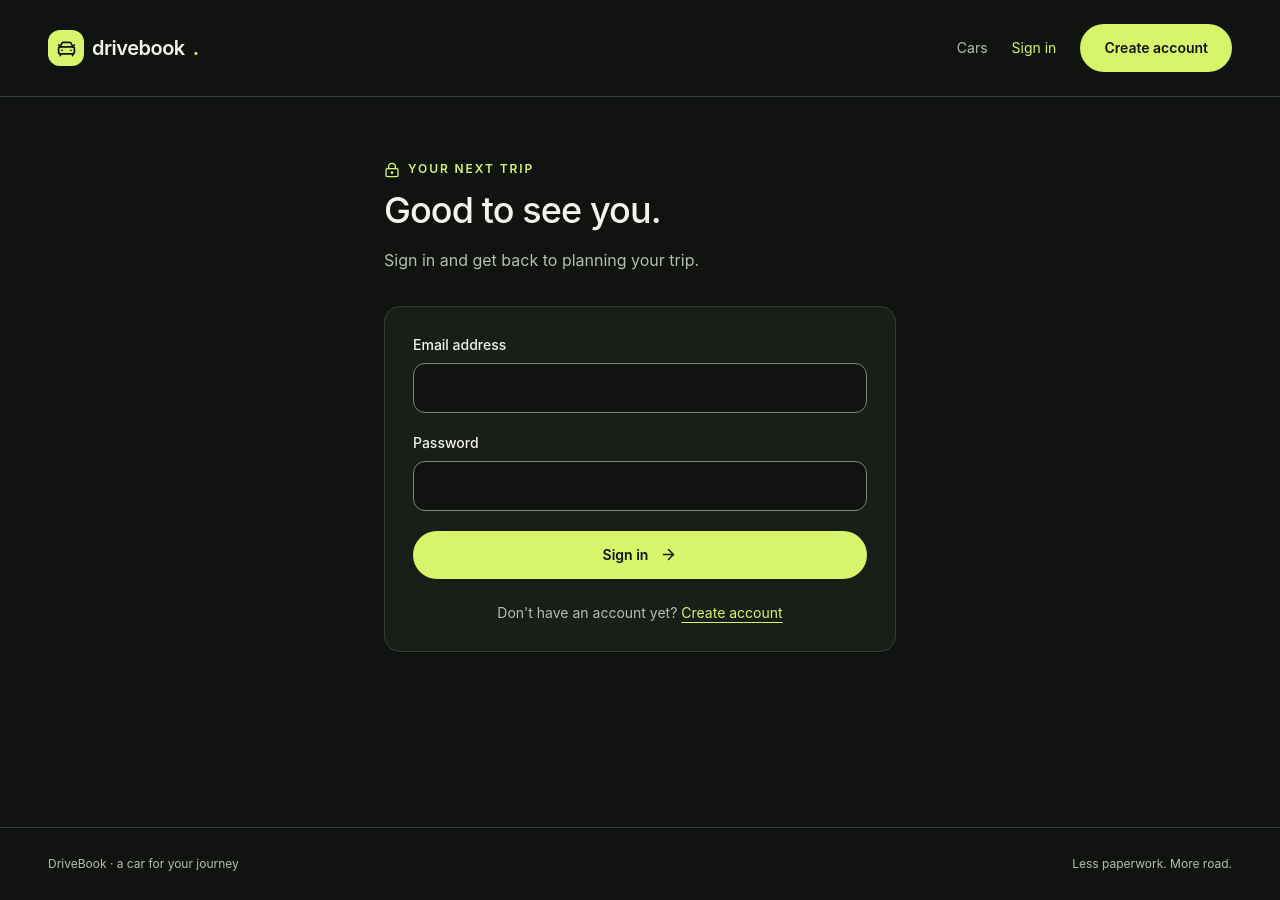
Test case: login › goes to the requested page after signing in
The width and height of the screenshot is (1280, 900).
Type "demo@drivebook.test" into the field labelled "Email address" at (640, 388), box x1=413 y1=363 x2=867 y2=413
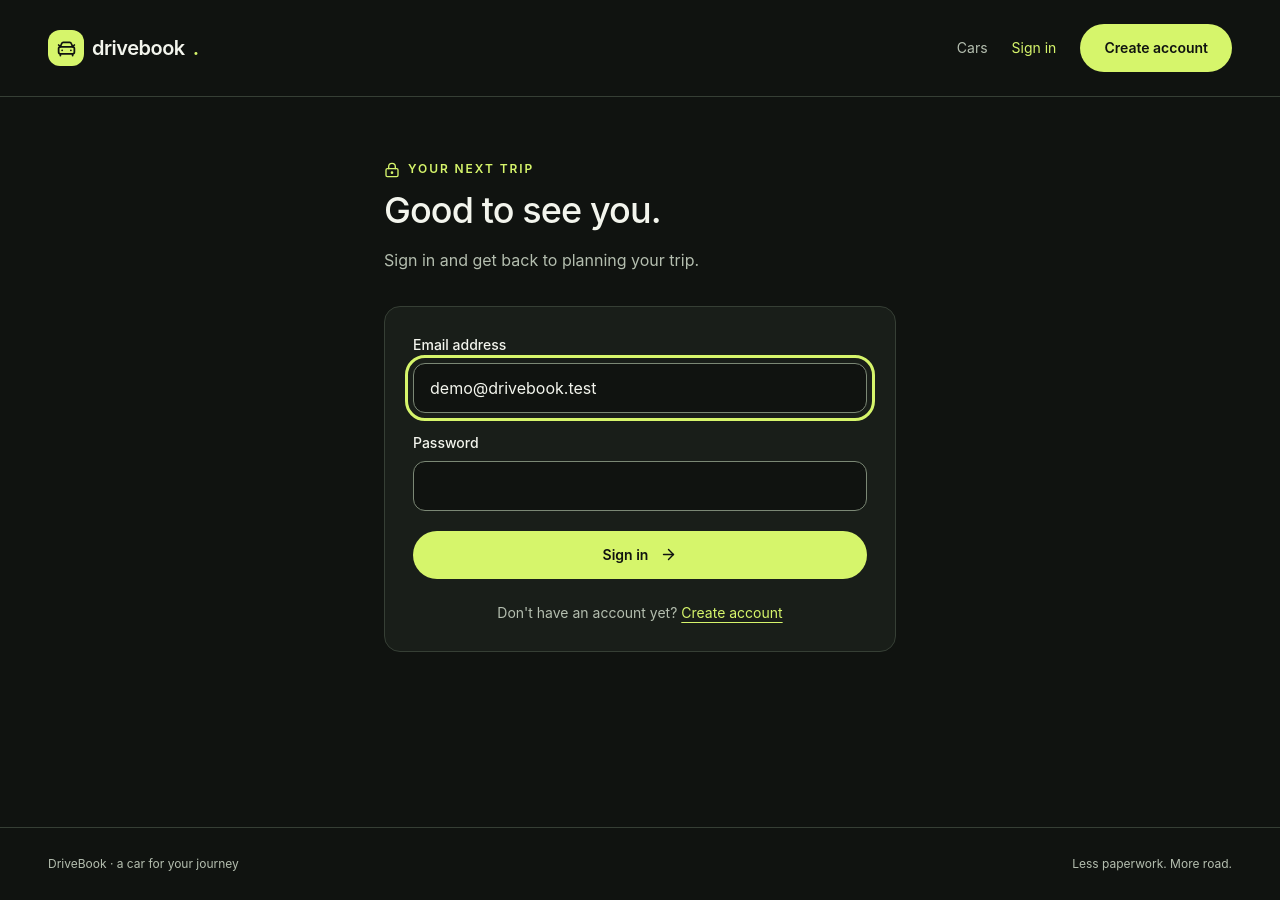
Type "demo-password-123" into the password field labelled "Password" at (640, 486), box x1=413 y1=461 x2=867 y2=511
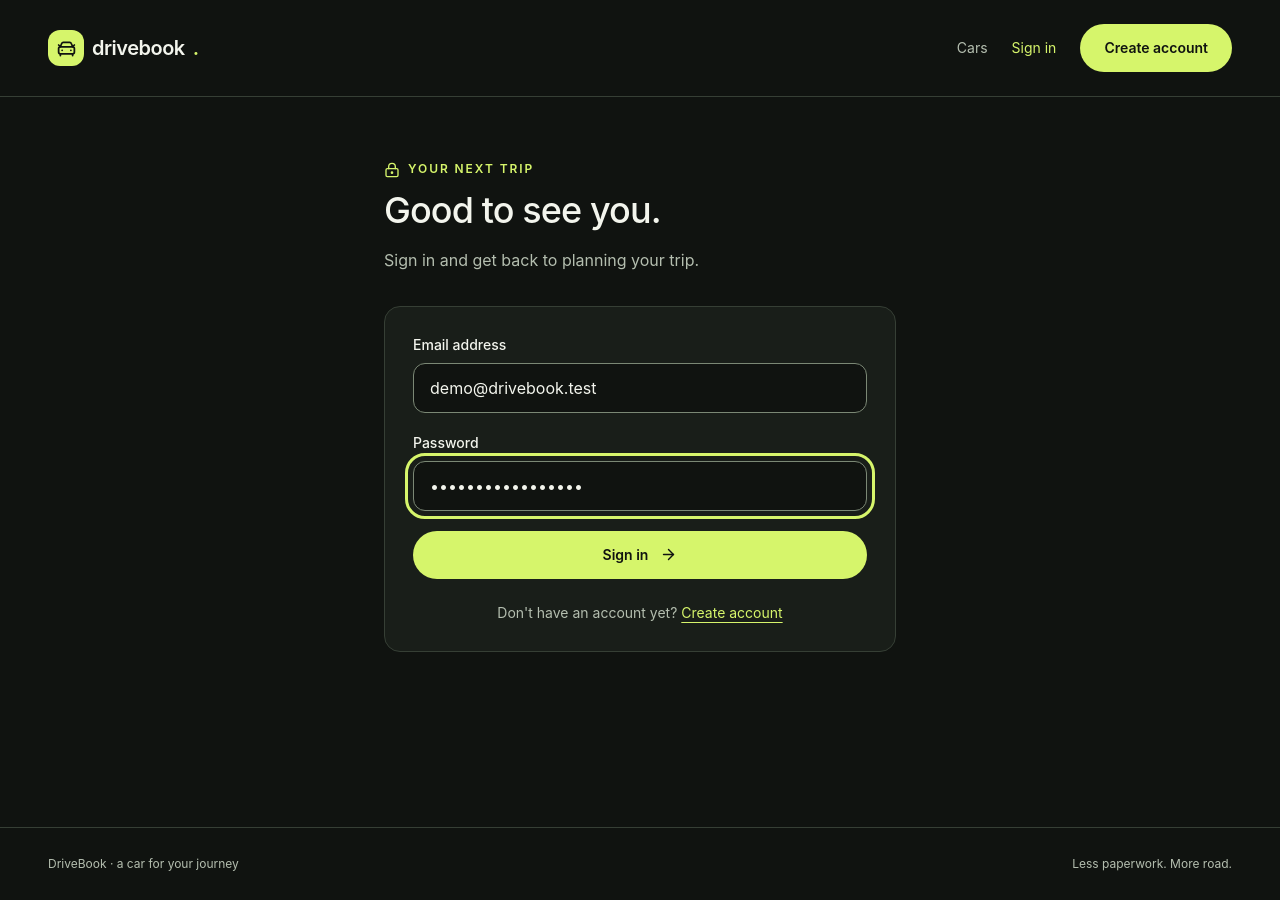
Click the button "Sign in" at (640, 555), box x1=413 y1=531 x2=867 y2=579
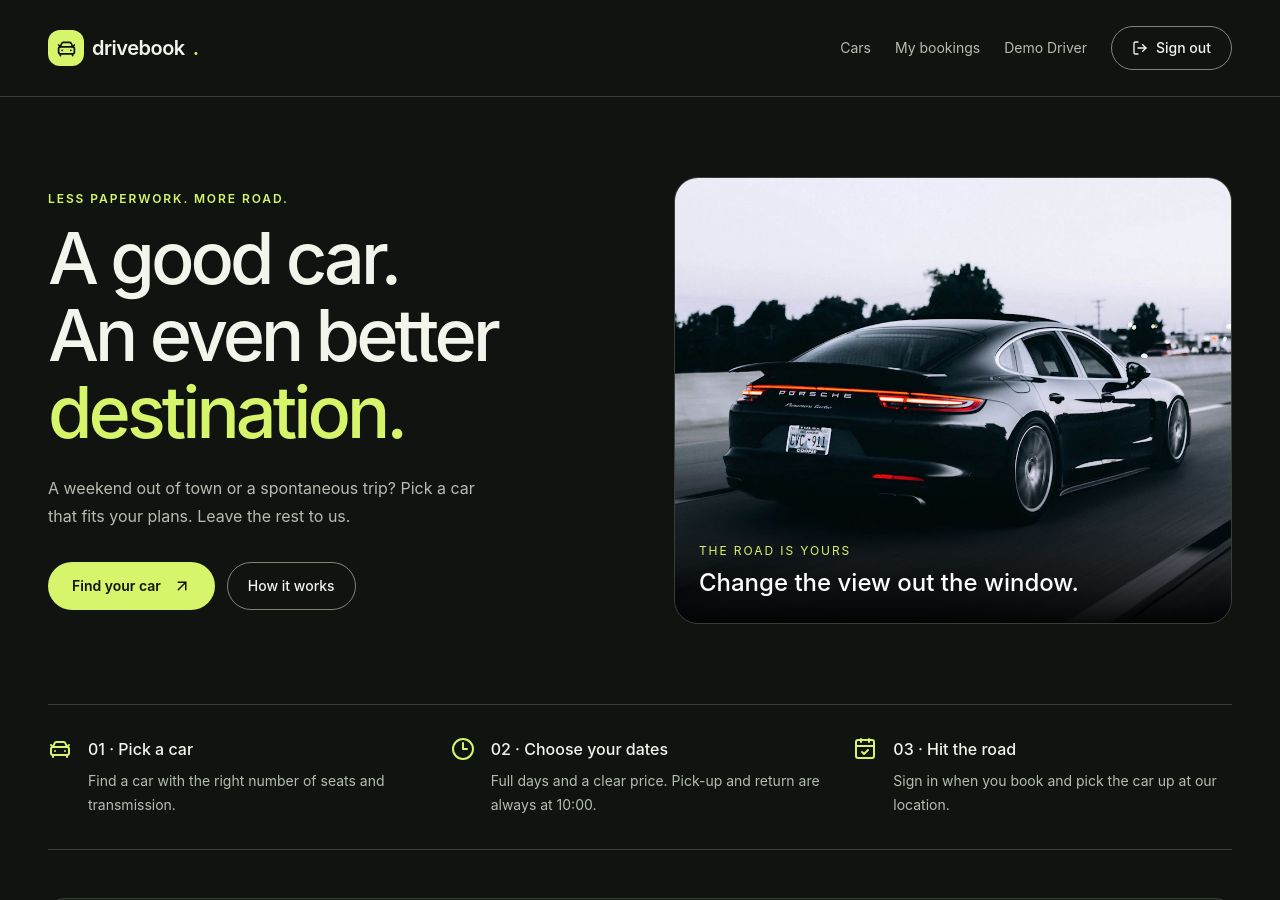
Expected: the button "Sign out" is shown, x1=1111 y1=26 x2=1232 y2=70
